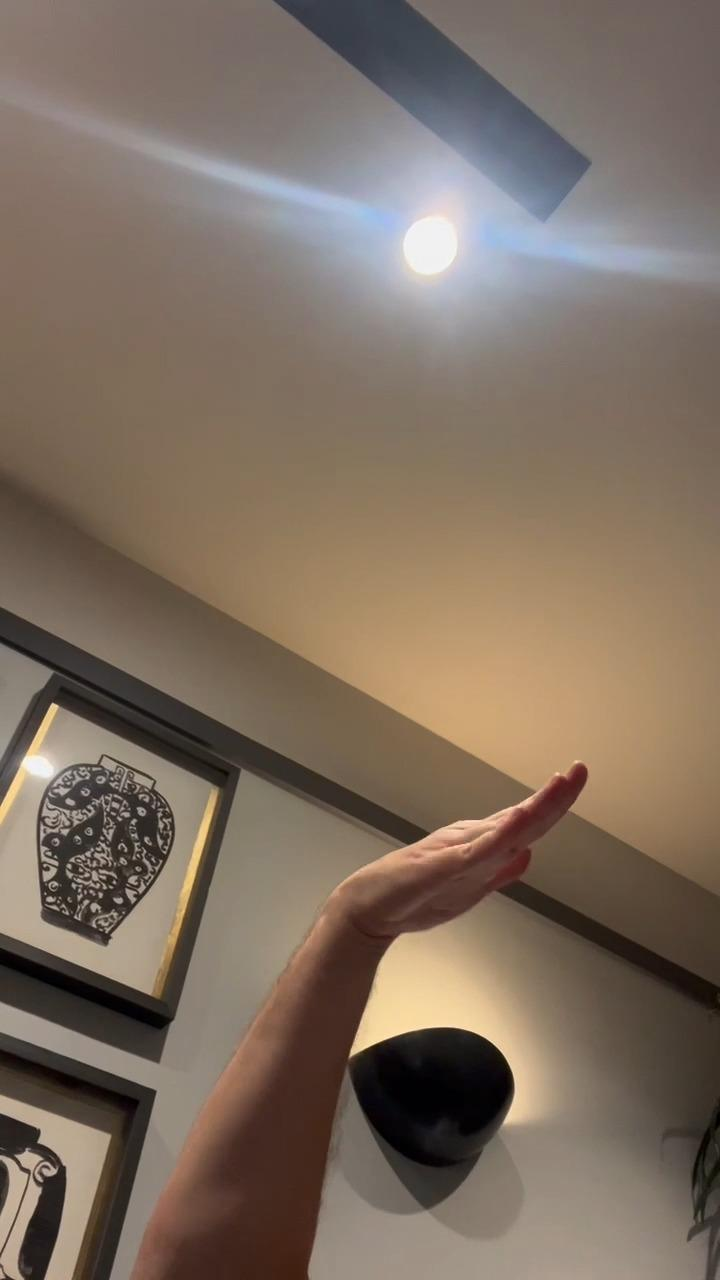Paper: (336, 764, 590, 930)
